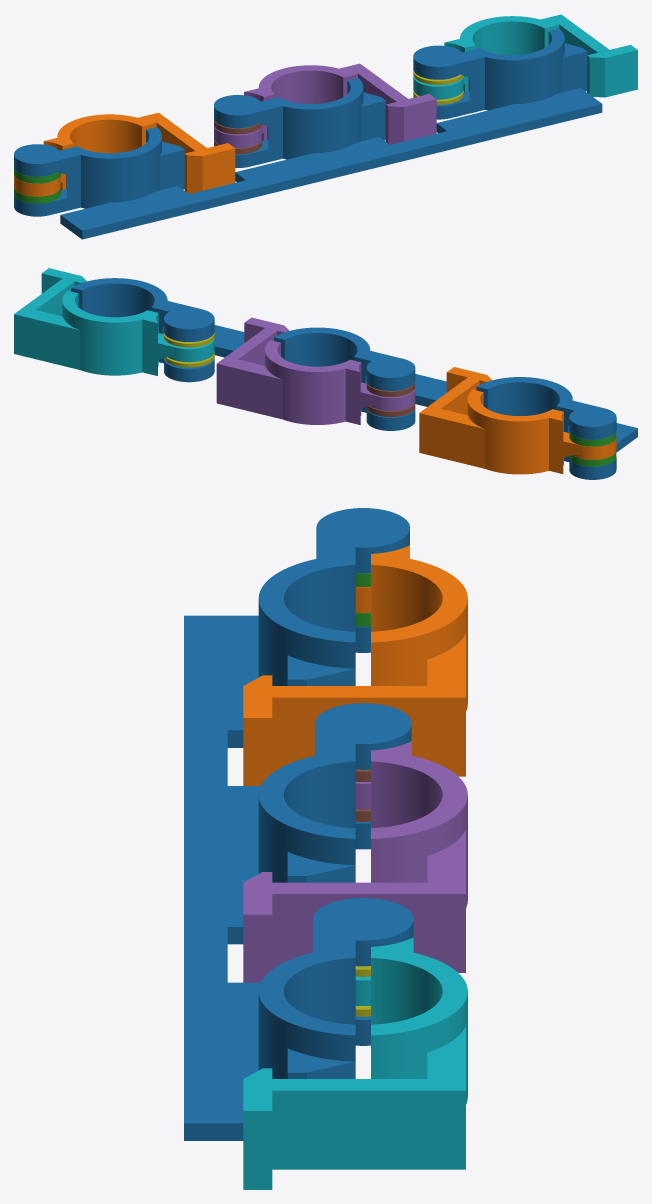
The model's file is clamp-pla-hinge-strip.glb.
3 renders of one model, top to bottom at view 1: azimuth 30°, elevation 25°; view 2: azimuth 150°, elevation 25°; view 3: azimuth 270°, elevation 25°, orthographic. The views are drawn at different scales.
Parts seen in each view (by area): view 1: strip, door-0-20, door-0-10, door-0-02, pla-hinge-0-02, pla-hinge-0-10, pla-hinge-0-20; view 2: strip, door-0-20, door-0-10, door-0-02, pla-hinge-0-02, pla-hinge-0-10, pla-hinge-0-20; view 3: strip, door-0-20, door-0-02, door-0-10.
Part boxes in pixels (box(x1,y1,x2,y2)): strip: box(14, 28, 602, 239); door-0-20: box(413, 14, 637, 99); door-0-10: box(214, 63, 436, 148); door-0-02: box(14, 112, 235, 196); pla-hinge-0-02: box(14, 168, 60, 203); pla-hinge-0-10: box(214, 120, 262, 154); pla-hinge-0-20: box(413, 70, 463, 104); strip: box(71, 278, 637, 479); door-0-20: box(14, 268, 214, 375); door-0-10: box(216, 317, 415, 424); door-0-02: box(419, 367, 616, 474); pla-hinge-0-02: box(569, 431, 616, 466); pla-hinge-0-10: box(366, 382, 415, 417); pla-hinge-0-20: box(164, 332, 214, 367); strip: box(184, 508, 413, 1140); door-0-20: box(243, 937, 467, 1189); door-0-02: box(243, 545, 467, 785); door-0-10: box(243, 741, 467, 982).
Size of the model in its own units: 0.0704 by 0.006 by 0.0146.
